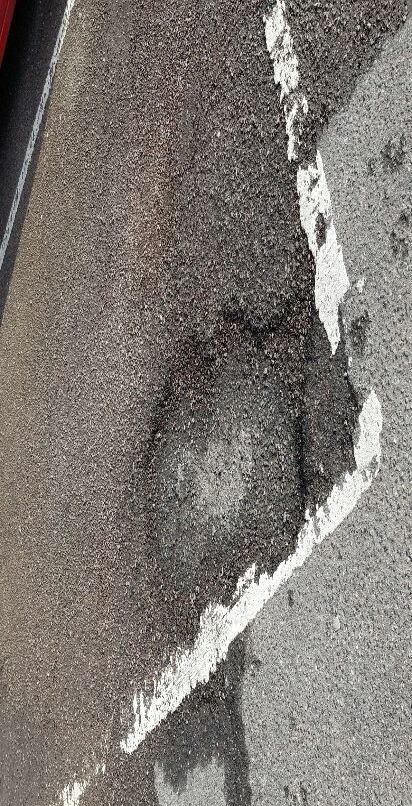pothole: (132, 282, 325, 626)
